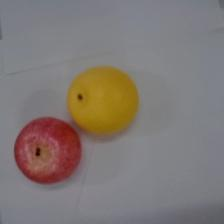red: (13, 116, 82, 185)
yellow: (66, 65, 140, 136)
